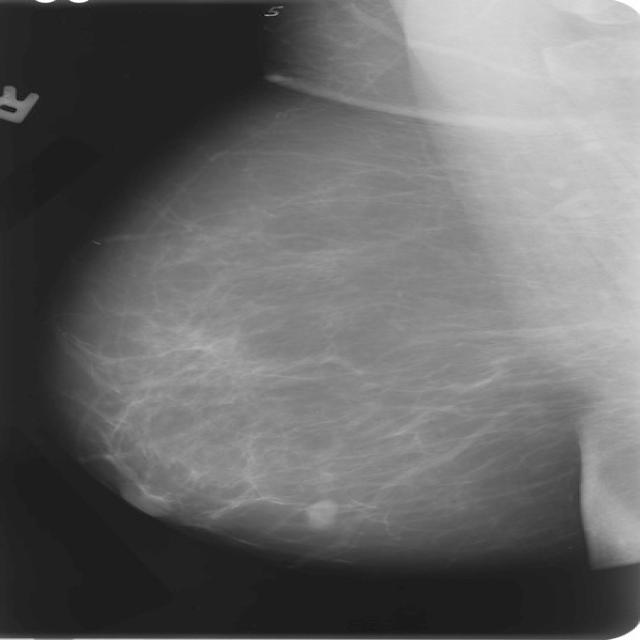tumour: (305, 498, 337, 529)
